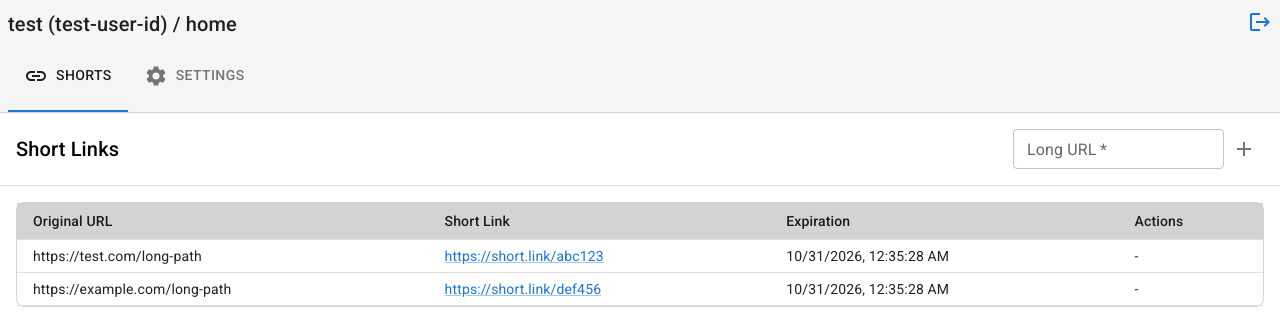
Test: home component › when on the default view: shorts › given some existent shorts › when creating a new short with NO success › when the service return validation errors › should report to the user
Type "http://localhost:3000/long_path?title=long" into the field labelled "Long URL" at (1118, 149), box [1013,129,1224,169]
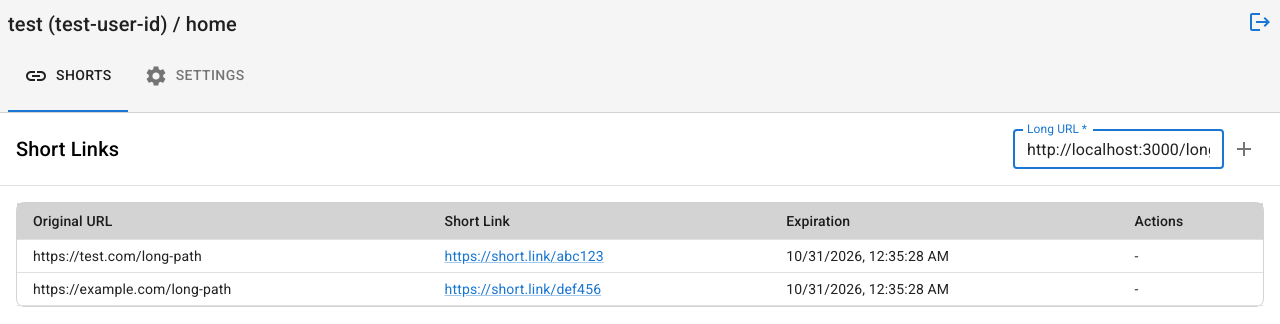
Click the button at (1244, 149), box [1224,129,1264,169]
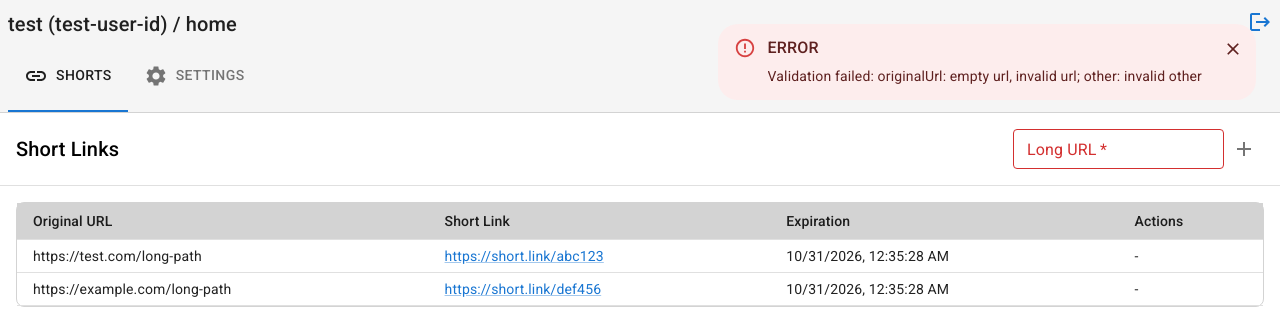
Result: the text "invalid other" is shown at [768,68,1202,84]
